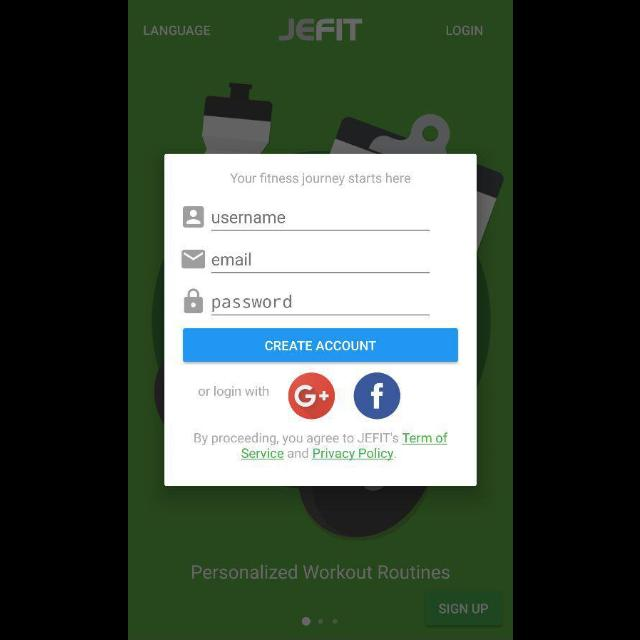icon: (352, 372, 400, 420), (288, 372, 334, 420), (183, 288, 203, 314), (182, 206, 204, 228), (181, 250, 205, 268)
input: (210, 294, 430, 316), (210, 252, 430, 274), (210, 214, 430, 232)
pageindicator: (300, 617, 338, 627)
panel: (164, 154, 476, 486)
text: (194, 432, 448, 462), (191, 564, 449, 580), (230, 173, 410, 187), (278, 18, 362, 42), (212, 296, 292, 312), (199, 385, 269, 399), (143, 26, 211, 36), (212, 214, 284, 223), (212, 252, 252, 266), (444, 26, 482, 36)
textbutton: (182, 328, 458, 362), (424, 592, 501, 626)
